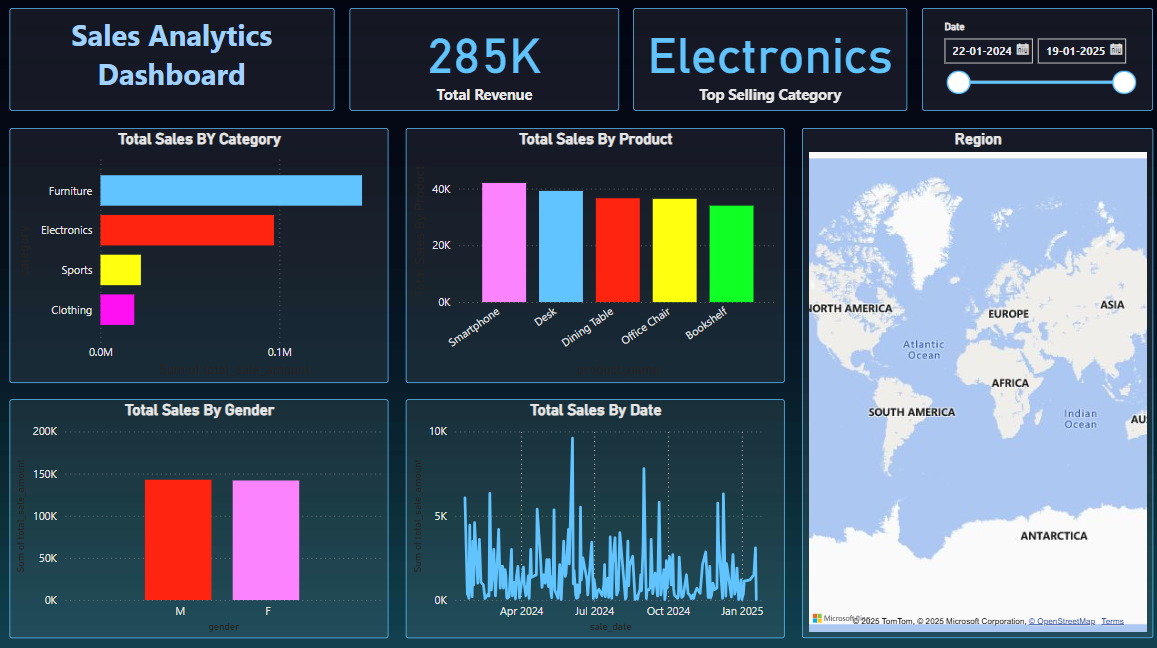

What the dashboard file says about the page in this screenshot:
{"tool":"powerbi","page":{"name":"Page 1","canvas":[1280,720],"ordinal":0},"visuals":[{"type":"barChart","title":"Total Sales BY Category","fields":{"Y":["Sum(sales.total_sale_amount)"],"Category":["products.category"]},"box":[13.7,142.7,415.8,279.9],"z":0},{"type":"filledMap","fields":{"Category":["sales.region"]},"box":[883.7,142.7,385.6,559.9],"z":1000},{"type":"lineChart","title":"Total Sales By Date","fields":{"Y":["Sum(sales.total_sale_amount)"],"Category":["sales.sale_date"]},"box":[448.7,440.5,415.8,262.1],"z":2000},{"type":"slicer","fields":{"Values":["sales.sale_date"]},"box":[1015.4,11,253.9,112.5],"z":3000},{"type":"columnChart","title":"Total Sales By Product ","fields":{"Y":["Sum(sales.total_sale_amount)"],"Category":["products.product_name"]},"box":[448.7,142.7,415.8,279.9],"z":4000},{"type":"card","fields":{"Values":["Sum(sales.total_sale_amount)"]},"box":[387,11,296.4,112.5],"z":5000},{"type":"card","fields":{"Values":["Min(products.category)"]},"box":[698.5,11,300.5,112.5],"z":6000},{"type":"columnChart","title":"Total Sales By Gender","fields":{"Category":["customers.gender"],"Y":["Sum(sales.total_sale_amount)"]},"box":[13.7,440.5,415.8,262.1],"z":7000},{"type":"textbox","box":[13.7,11,356.8,112.5],"z":7001}]}

Visuals, with their boxes in screenshot pixels (x1, y1, x2, y2), scaled from the page's 1280x720 canvas onto the 1157x648 screenshot:
"Total Sales BY Category" barChart: 12 128 388 380
filledMap - sales.region: 799 128 1147 632
"Total Sales By Date" lineChart: 406 396 781 632
slicer - sales.sale_date: 918 10 1147 111
"Total Sales By Product " columnChart: 406 128 781 380
card - Sum(sales.total_sale_amount): 350 10 618 111
card - Min(products.category): 631 10 903 111
"Total Sales By Gender" columnChart: 12 396 388 632
textbox: 12 10 335 111
